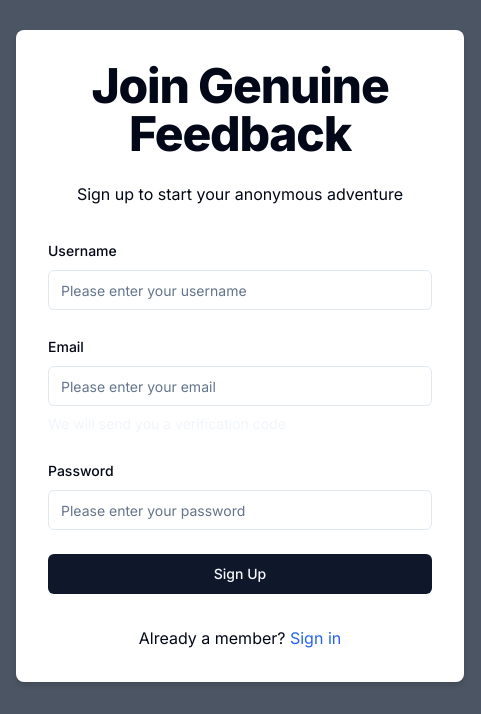
Test: SignUpForm › displays error message for non-unique username
The width and height of the screenshot is (481, 714).
Step 1. Type "takenuser" into the field labelled "Username" → [240, 290], box [48,270,432,310]
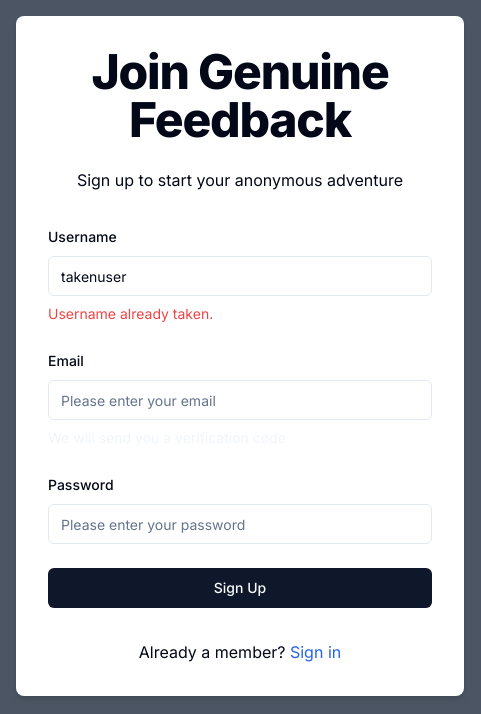
Expected: the text "Username already taken." is shown, [48,305,213,322]
